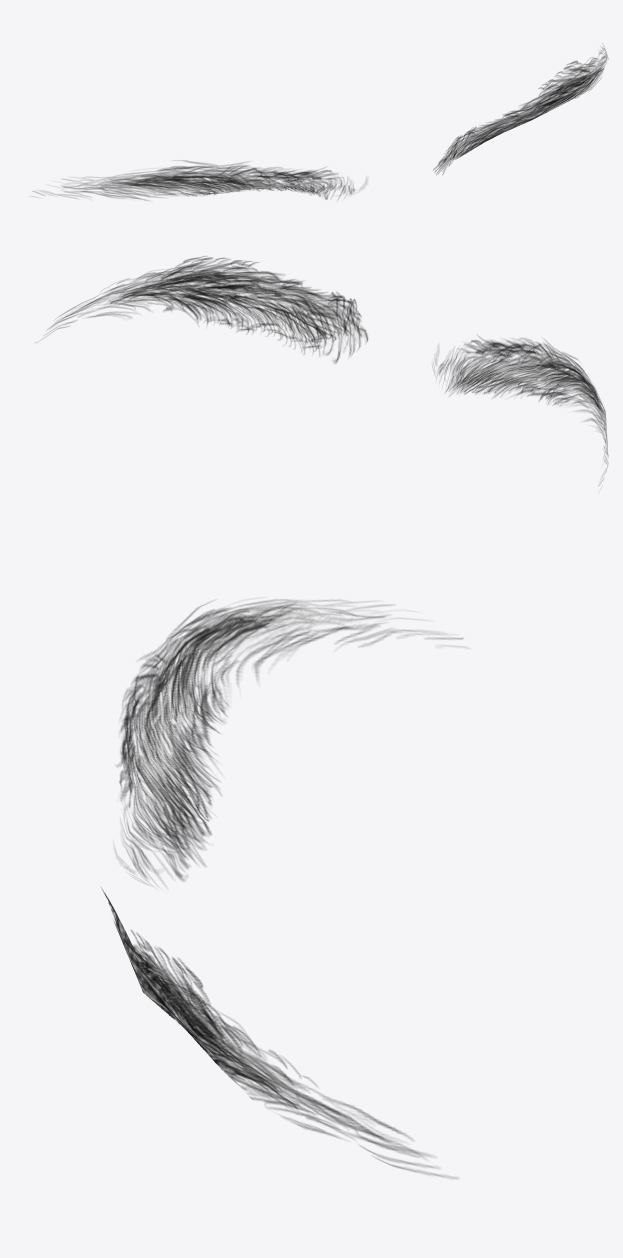
The model's file is brows_eyebrow012.gltf.
3 renders of one model, top to bottom at view 1: azimuth 30°, elevation 25°; view 2: azimuth 150°, elevation 25°; view 3: azimuth 270°, elevation 25°, orthographic. The views are drawn at different scales.
Parts seen in each view (by area): view 1: brows_eyebrow012; view 2: brows_eyebrow012; view 3: brows_eyebrow012.
Boxes of the visible parts, x1=… form: brows_eyebrow012: x1=33, y1=47, x2=608, y2=200; brows_eyebrow012: x1=36, y1=256, x2=608, y2=485; brows_eyebrow012: x1=101, y1=599, x2=463, y2=1178.
Bounding box in the file's own units: 0.1113 × 0.0196 × 0.0356.
1 material, 1 textured.
